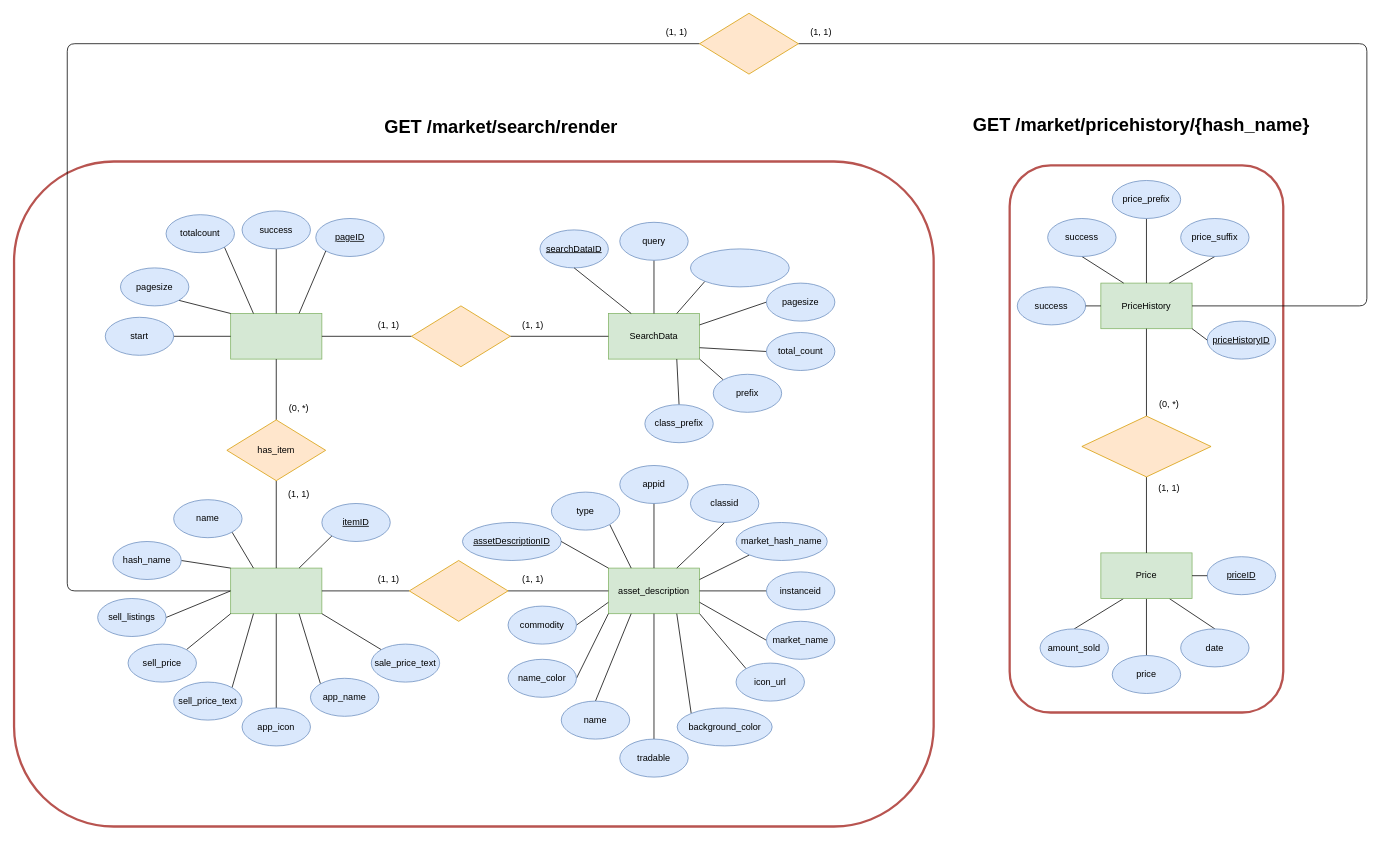
Some shapes in this 1381 by 841 pixel diagram are drawn without their labels. The shapes that lost their labels are listed below. From the top down, each one's box as (x1, y1, x2, y2) in pixels, then its label:
(699, 13, 798, 74): has_price_history
(690, 248, 789, 287): search_description
(230, 313, 322, 359): Page
(411, 305, 510, 367): has_searchdata
(1081, 415, 1211, 477): has_prices
(230, 567, 322, 614): item
(408, 560, 508, 621): has_description
